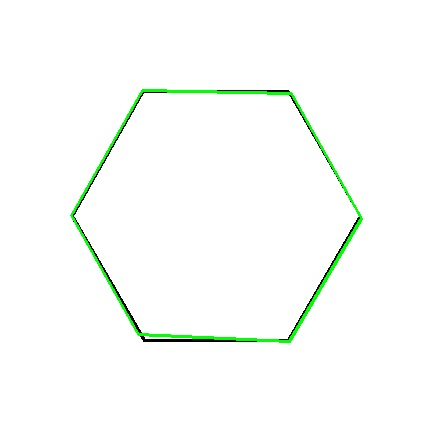line_segment: (71, 89, 362, 343)
